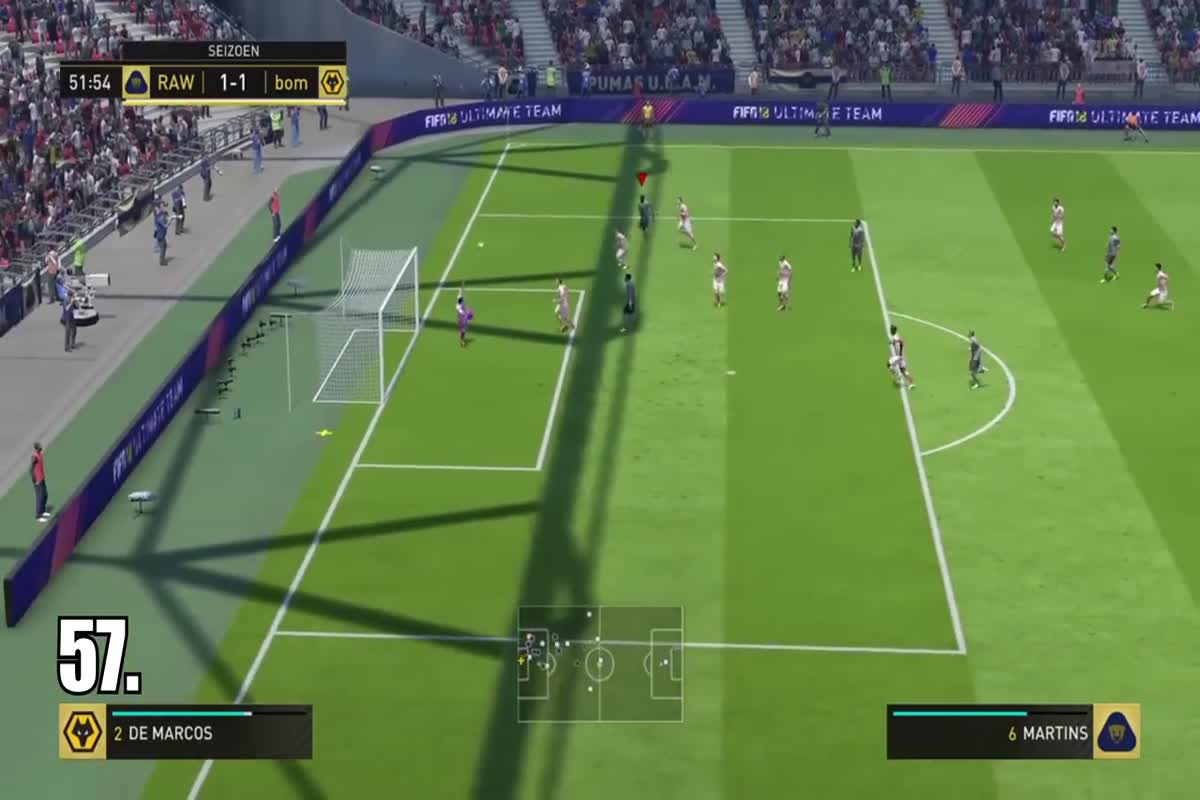ball: (469, 235, 503, 258)
